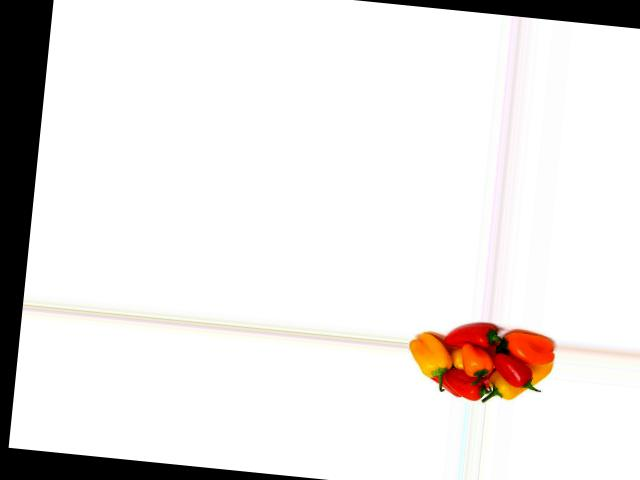bell_pepper: (487, 357, 551, 407)
